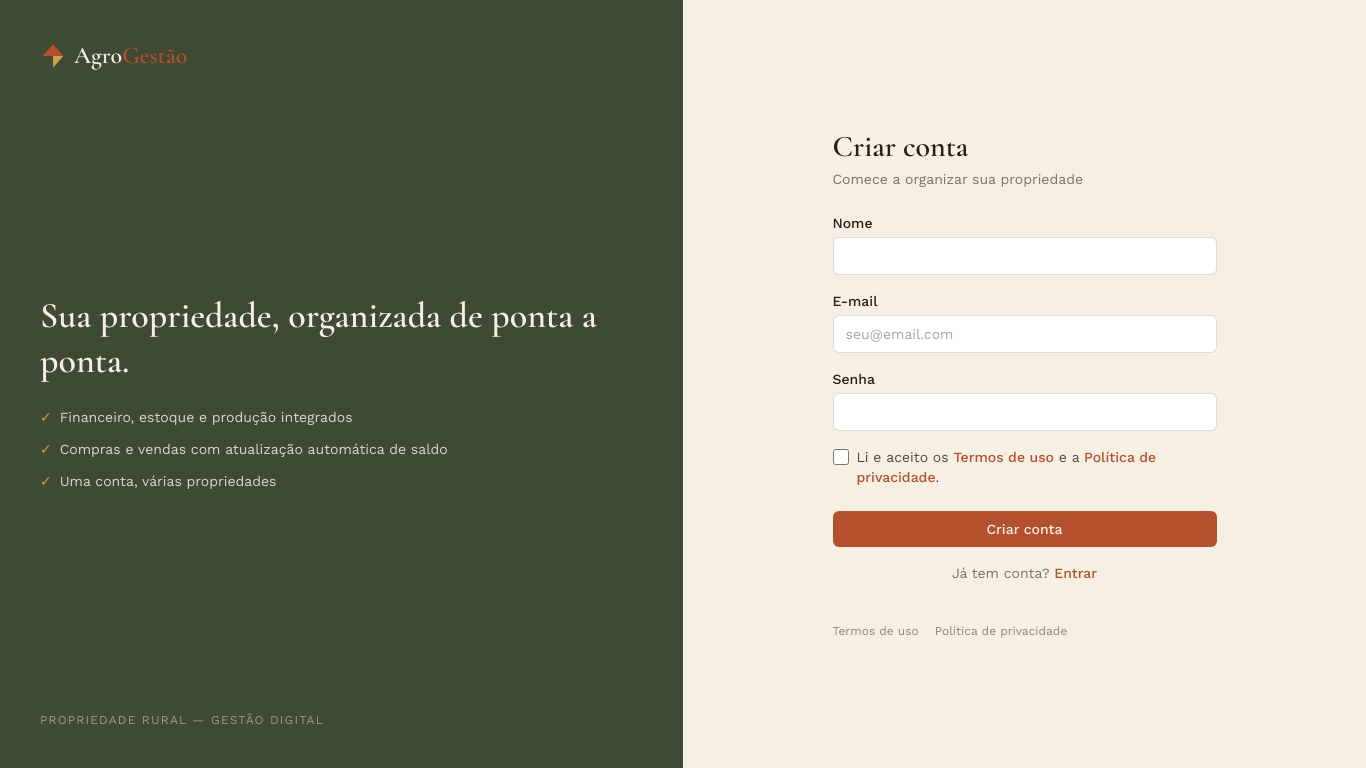
RegisterPage › mostra o motivo quando o cadastro é recusado
Type "Maria" into the field labelled "Nome" at (1024, 256), box [832,237,1216,275]
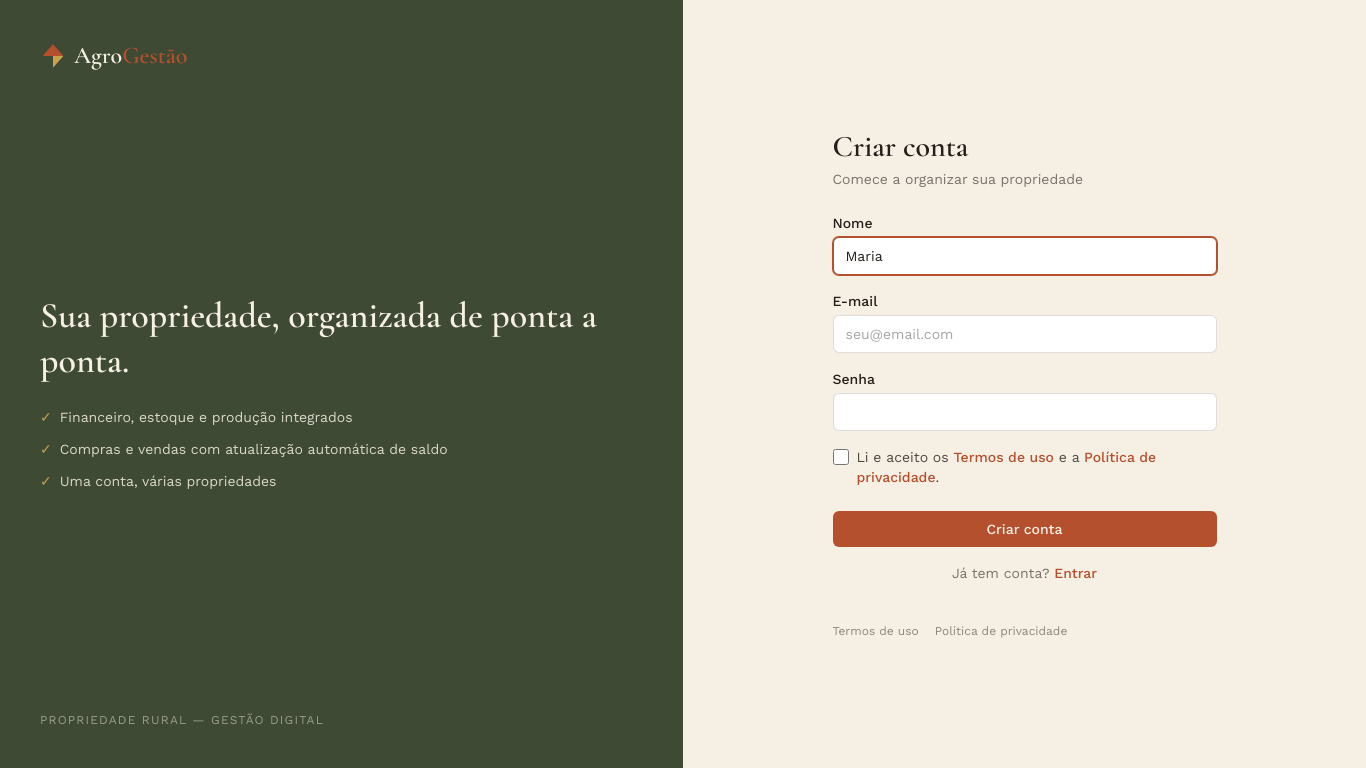
Type "maria@teste.dev" into the field labelled "E-mail" at (1024, 334), box [832,315,1216,353]
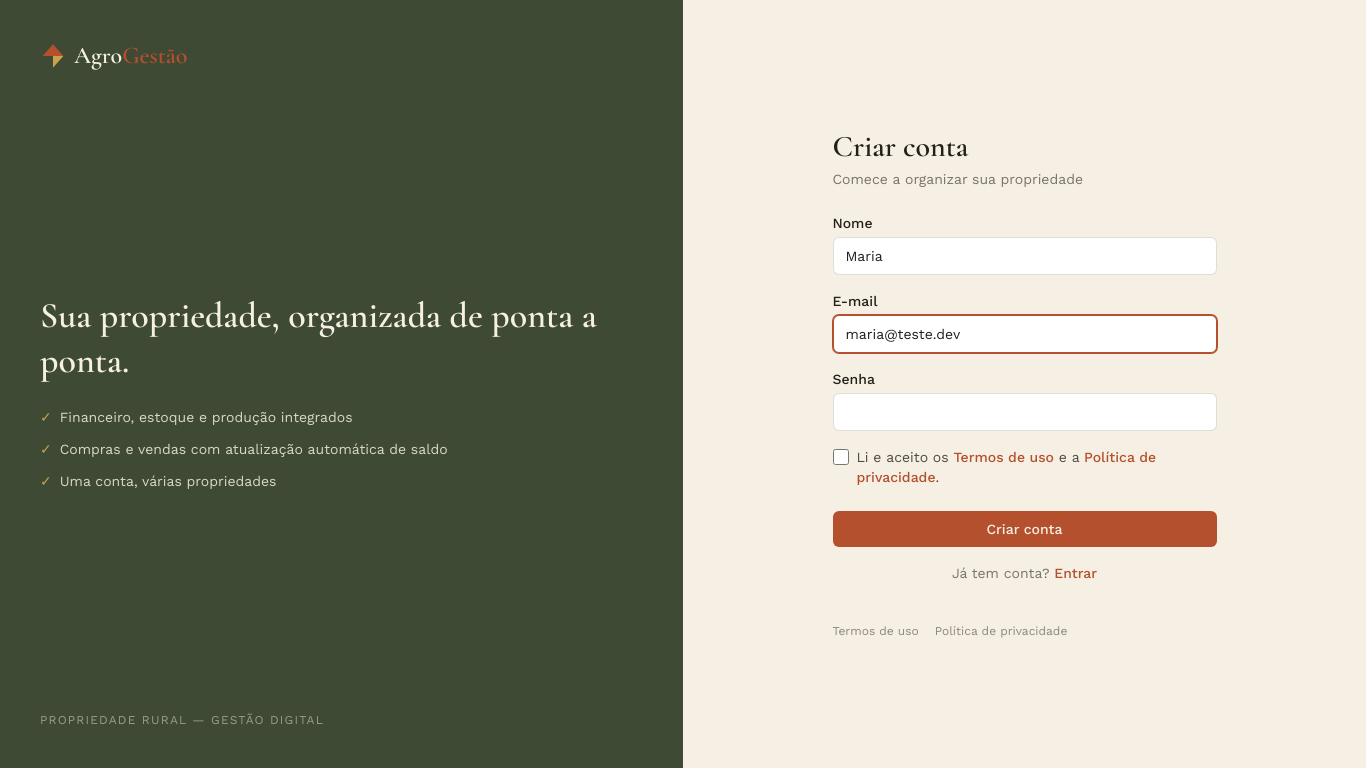
Type "senha1234" into the password field labelled "Senha" at (1024, 412), box [832,393,1216,431]
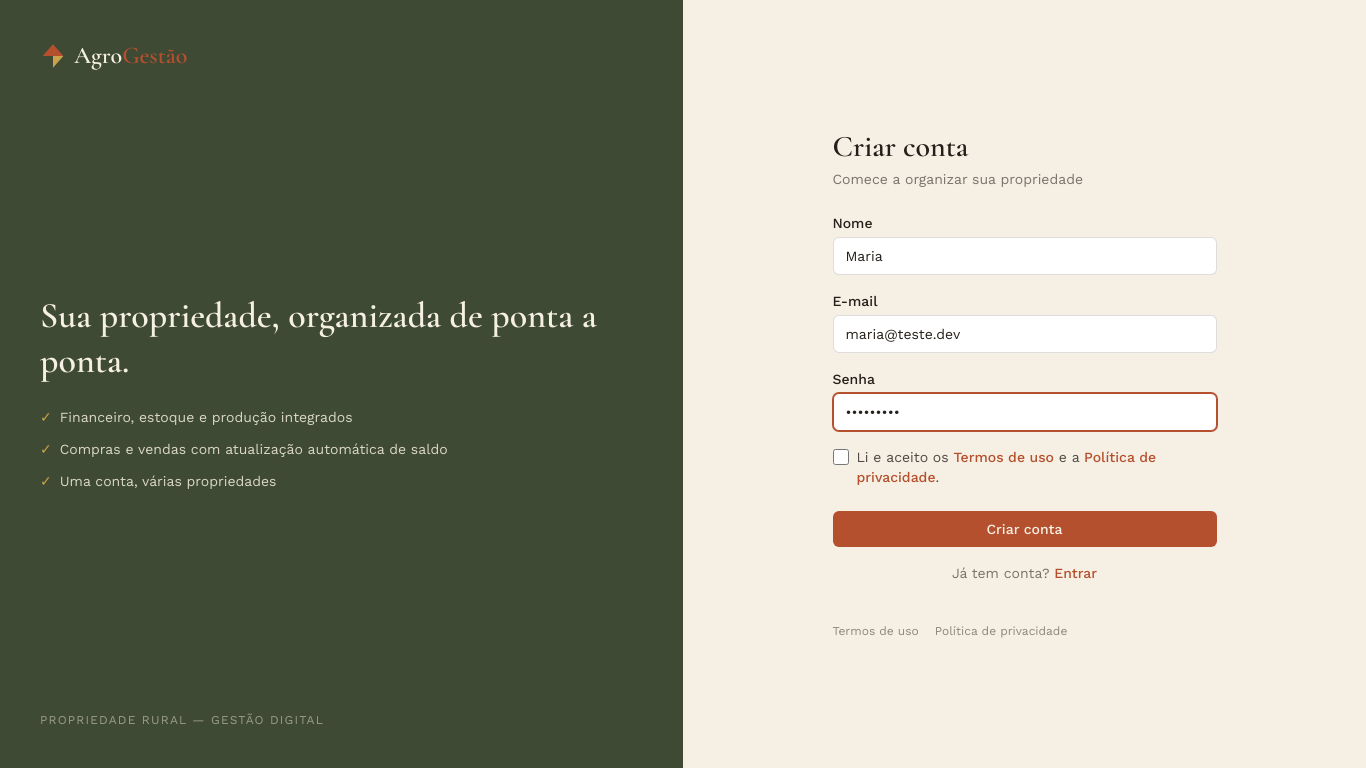
Click the checkbox labelled "Li e aceito os Termos de uso e a Política de privacidade ." at (840, 457), box [832,449,848,465]
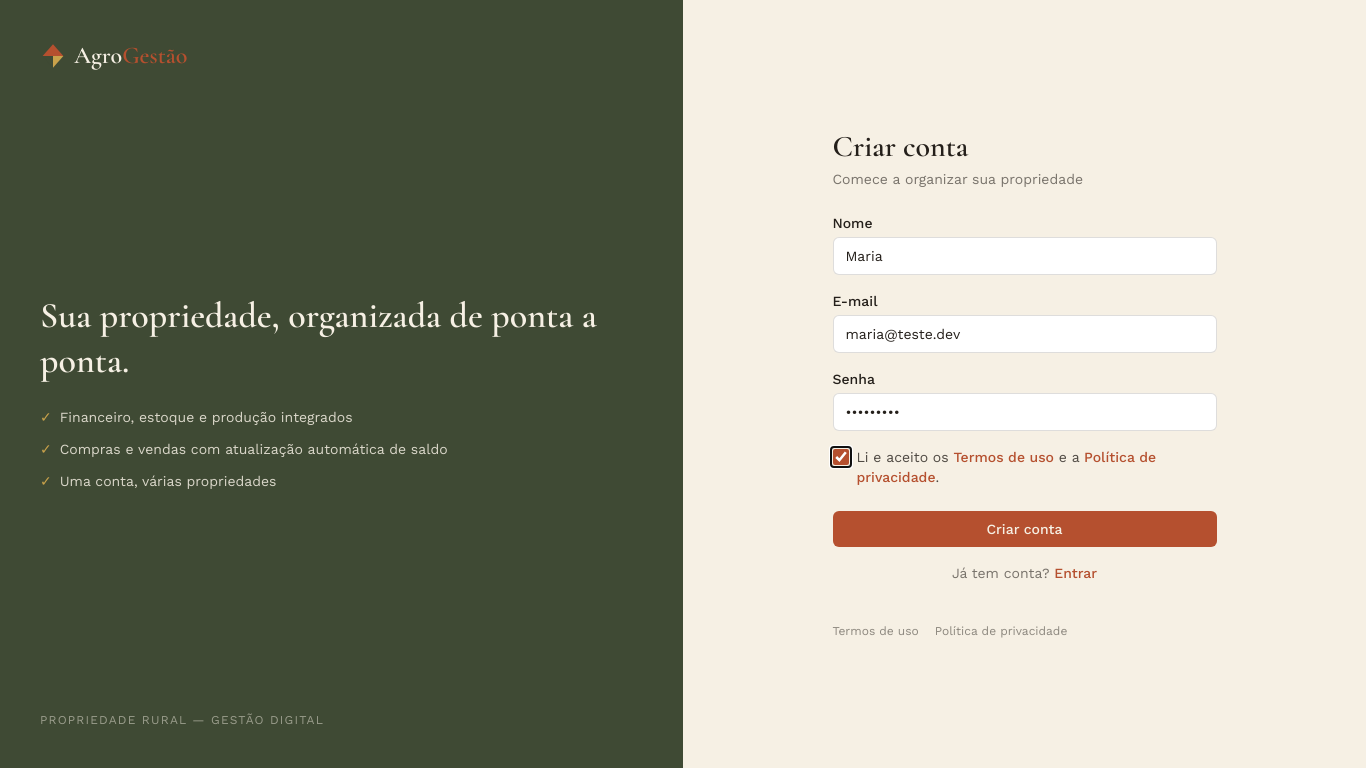
Click the button "Criar conta" at (1024, 529), box [832,511,1216,547]
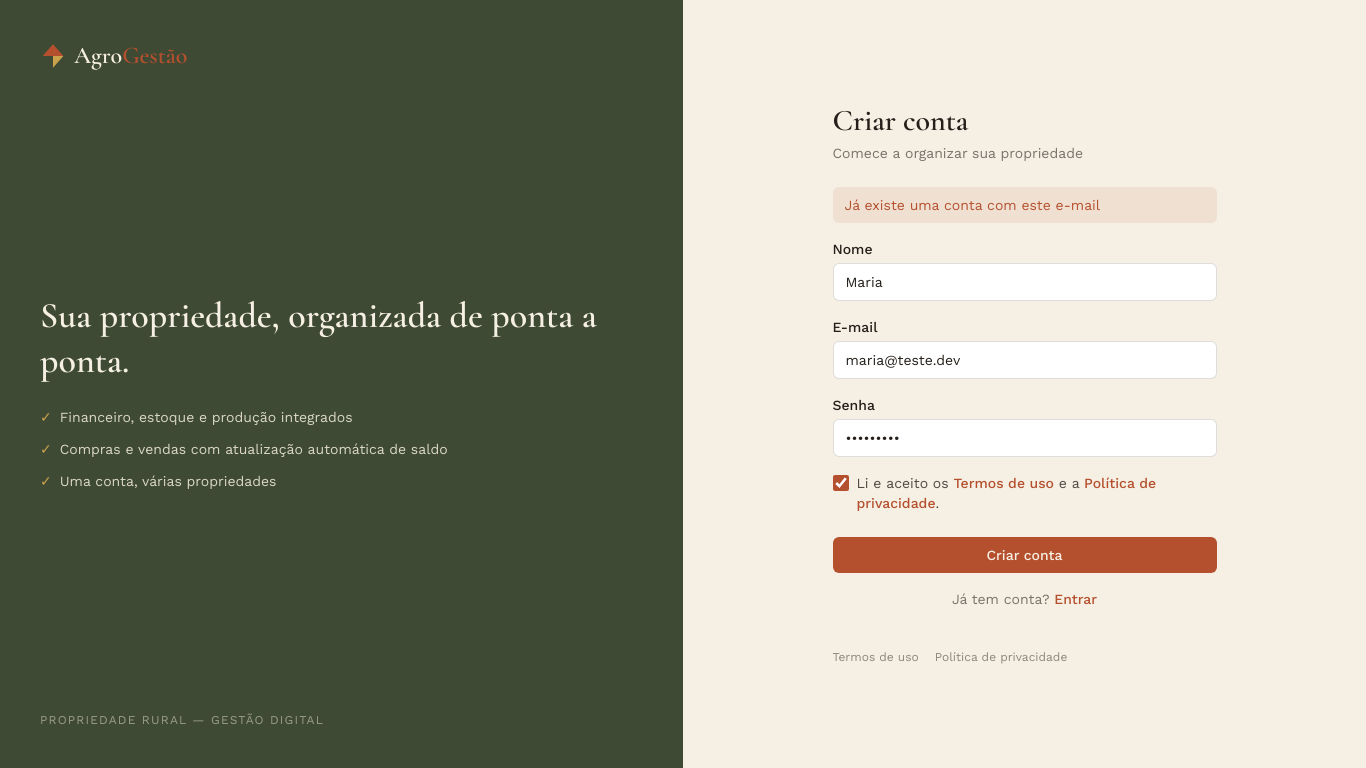
Now the text "Já existe uma conta com este e-mail" is shown, box [832,187,1216,223]
